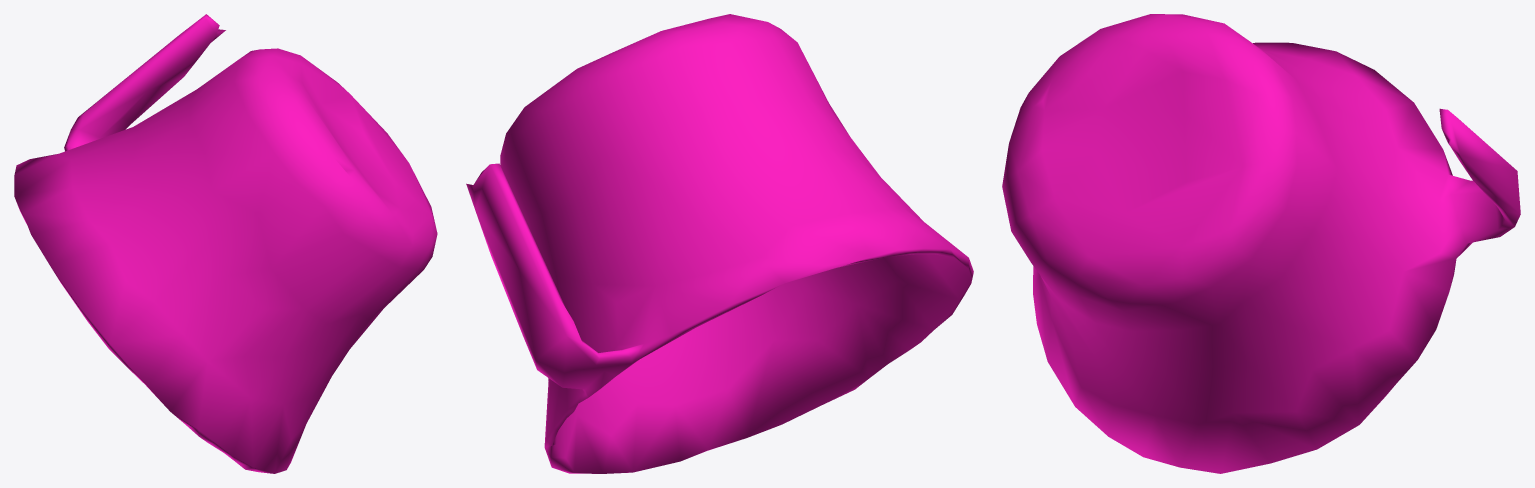
Rendered from mug2_5.dae.
The picture shows the model from 3 angles, left to right: view 1: azimuth 30°, elevation 25°; view 2: azimuth 150°, elevation 25°; view 3: azimuth 270°, elevation 25°; orthographic projection. The views are drawn at different scales.
Parts seen in each view (by area): view 1: GreenCup_800_tex_019; view 2: GreenCup_800_tex_019; view 3: GreenCup_800_tex_019.
Part boxes in pixels (box(x1,y1,x2,y2)): GreenCup_800_tex_019: box(14, 14, 437, 473); GreenCup_800_tex_019: box(466, 14, 973, 473); GreenCup_800_tex_019: box(1002, 14, 1520, 473).
Bounding box in the file's own units: 0.2293 × 0.2487 × 0.2284.
